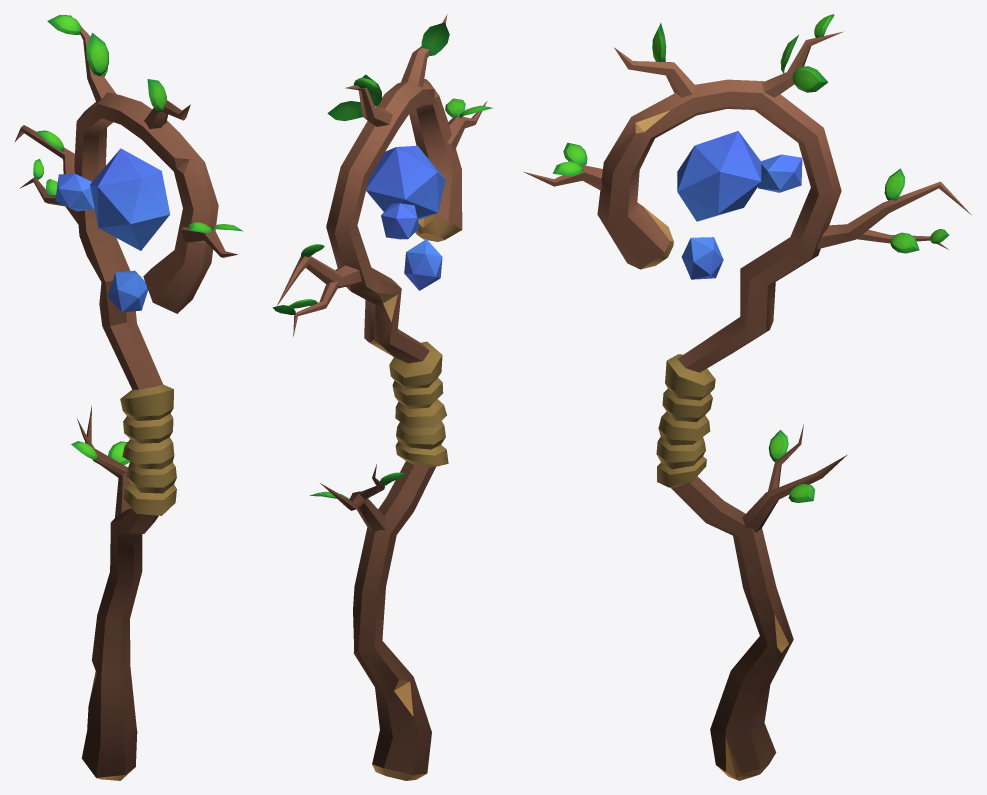
Rendered from DruidStaff_1_1_B.glb.
3 renders of one model, left to right at view 1: azimuth 30°, elevation 25°; view 2: azimuth 150°, elevation 25°; view 3: azimuth 270°, elevation 25°, orthographic. The views are drawn at different scales.
Visible parts, largest first — view 1: DruidStaff_1_1_B; view 2: DruidStaff_1_1_B; view 3: DruidStaff_1_1_B.
Boxes of the visible parts, box(x1,y1,x2,y2) form: DruidStaff_1_1_B: box(14, 14, 242, 780); DruidStaff_1_1_B: box(272, 14, 492, 780); DruidStaff_1_1_B: box(523, 14, 971, 780).
Size of the model in its own units: 0.1786 by 1.35 by 0.7322.
Materials: 2 (2 with a texture image).
